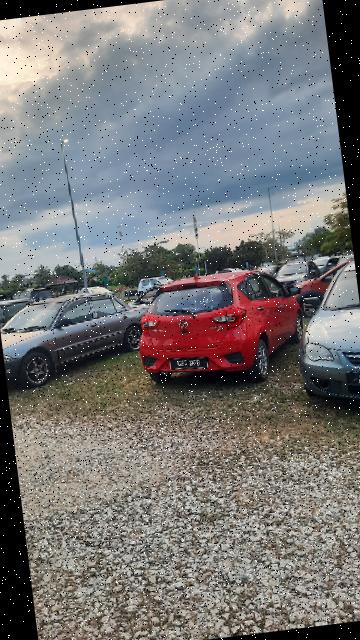License_Plate: (169, 354, 213, 374), (346, 368, 360, 392)
car: (128, 255, 313, 398), (1, 283, 157, 392), (289, 259, 360, 414)
